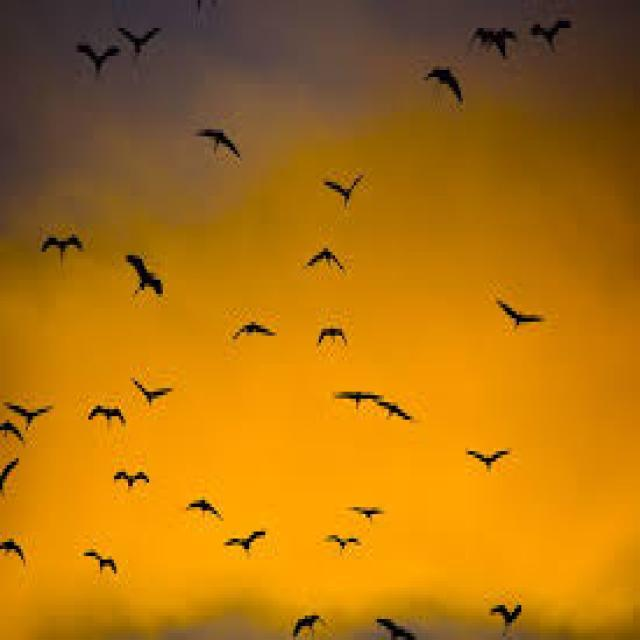bird: (118, 240, 174, 320), (484, 285, 552, 348), (418, 52, 478, 122), (32, 213, 94, 280), (112, 23, 174, 86), (188, 115, 246, 182), (291, 231, 356, 287), (312, 164, 370, 220), (224, 502, 280, 558), (478, 7, 520, 77), (454, 430, 514, 479), (330, 366, 382, 422), (76, 40, 124, 100), (532, 0, 579, 59), (220, 300, 278, 342), (366, 598, 424, 640), (76, 535, 124, 584), (130, 358, 184, 401), (292, 591, 339, 640), (372, 392, 414, 441), (179, 481, 228, 523), (101, 459, 162, 492), (482, 592, 530, 632), (326, 519, 366, 565), (307, 315, 354, 353), (6, 393, 61, 425), (82, 398, 130, 434), (349, 493, 393, 532), (0, 454, 30, 500), (0, 534, 26, 582), (0, 418, 33, 442)
